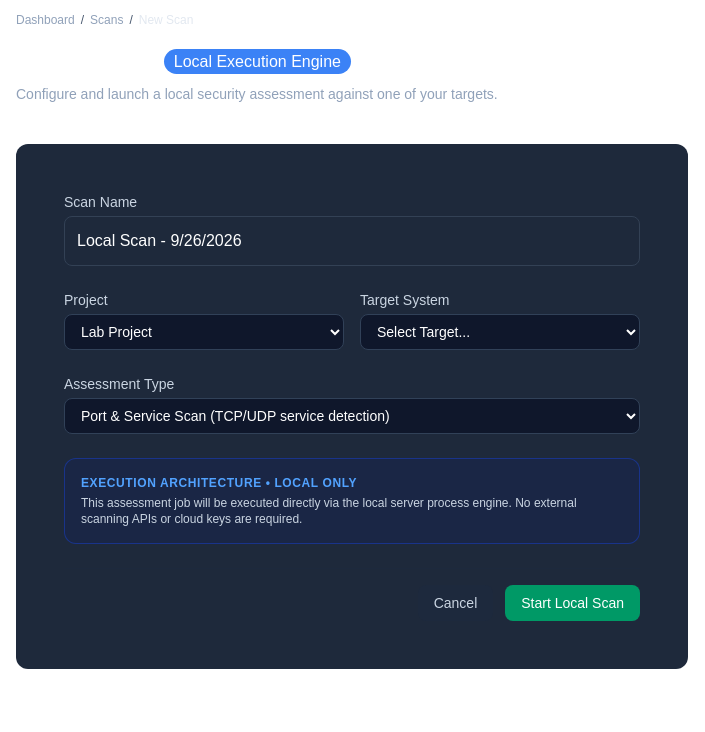
NewScanPage error handling › presents a server failure as an API error
Expected: the text "Scan Name" is shown, [64,194,137,210]
Select "Lab Target (10.0.0.1)" in the dropdown named "targetId" below "Target System". click: (500,332)
box: [360,314,640,350]
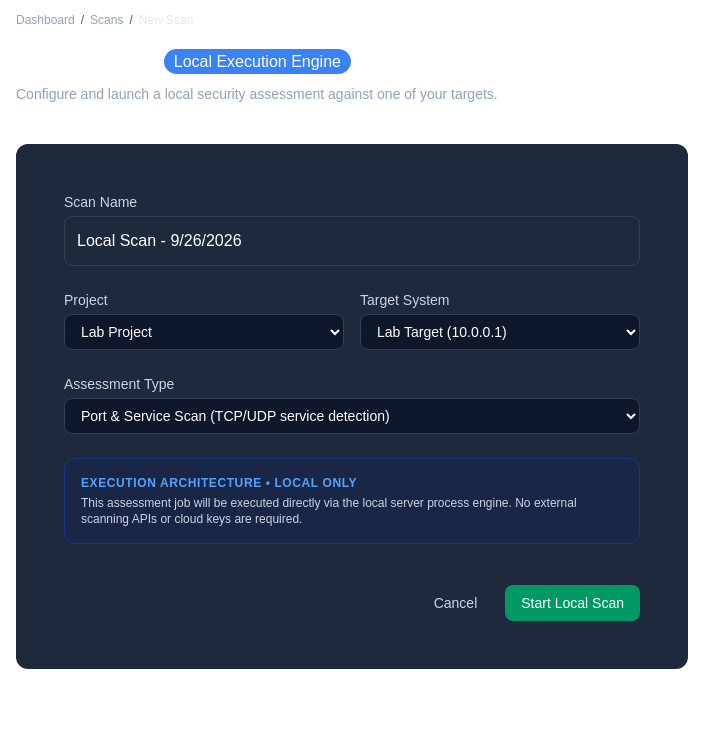
Submit the form named "Start Local Scan", box [40,168,664,645]
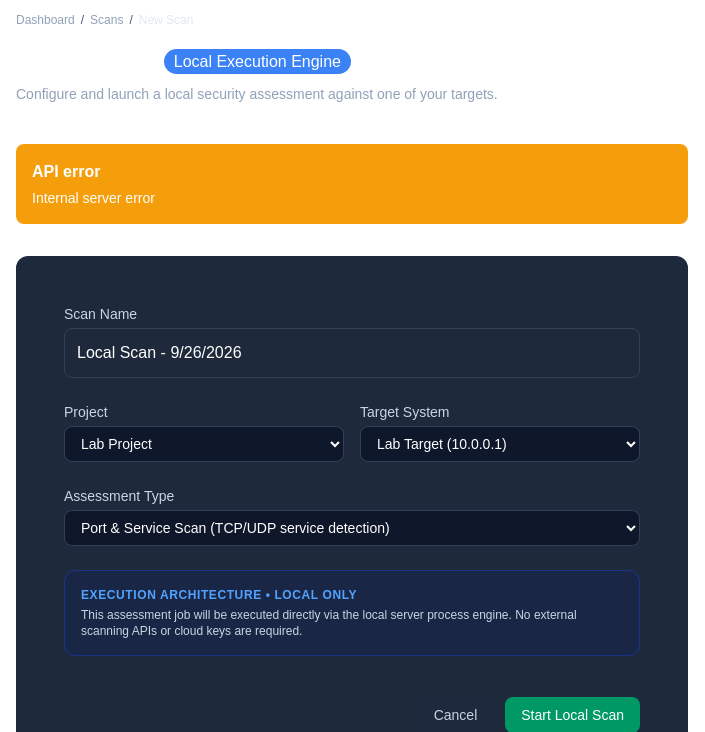
Expected: the text "API error" is shown, [32,163,100,180]
Expected: the text "Internal server error" is shown, [32,190,155,206]
